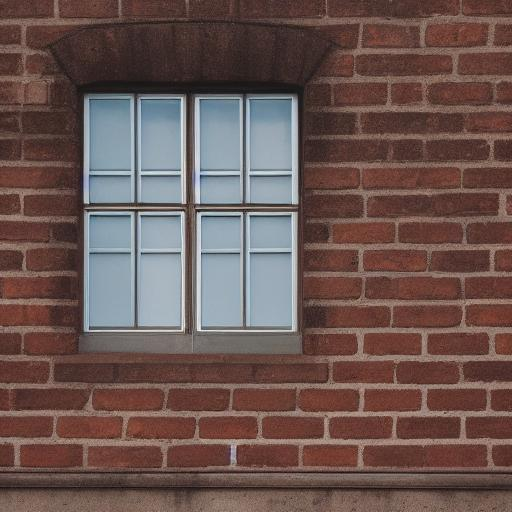Window: (50, 25, 335, 362)
